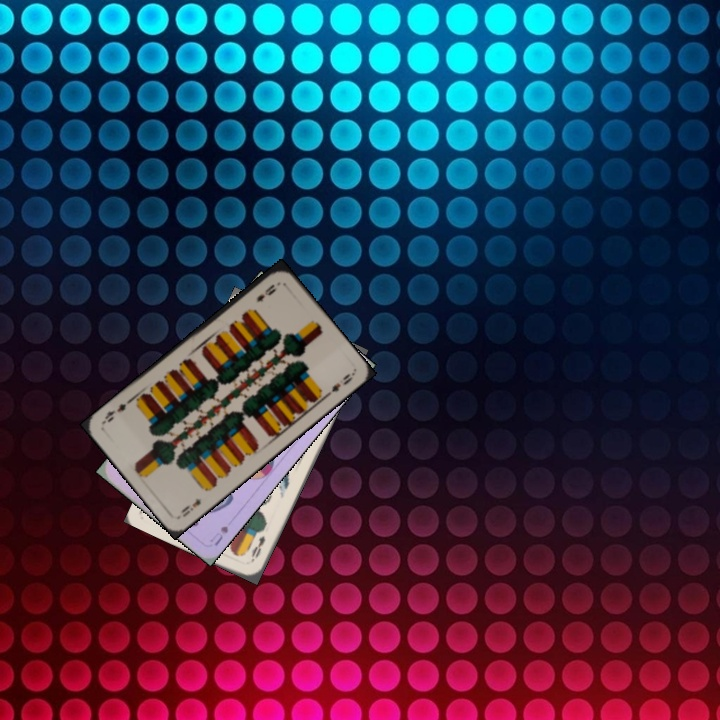E9: (177, 494, 204, 520), (252, 280, 280, 305)
EO: (247, 532, 268, 565)
SU: (206, 522, 231, 548)
